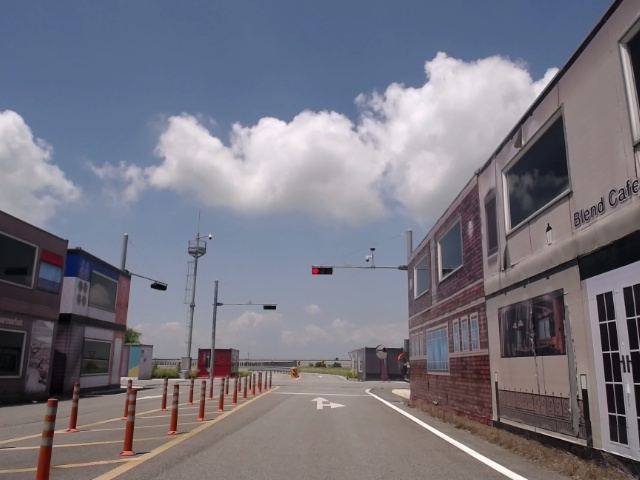red_3: (311, 266, 334, 275)
